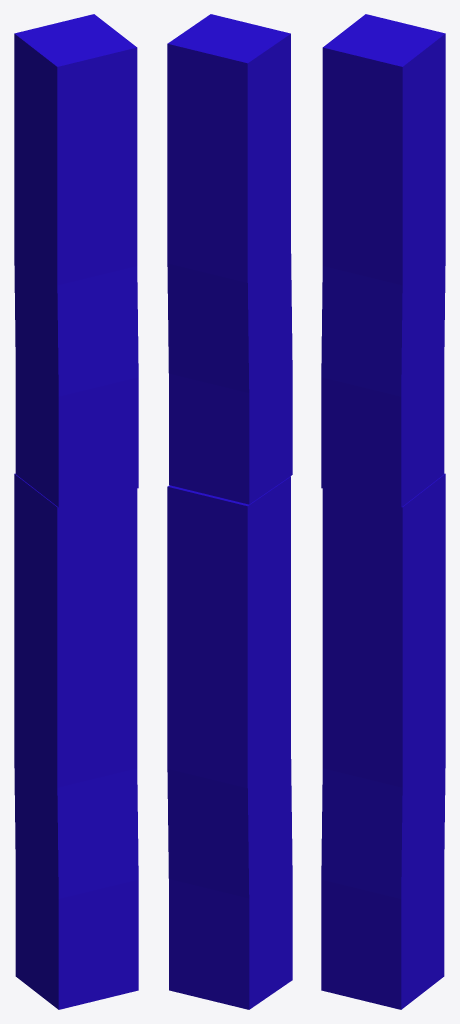
Rendered from columna_tile.fbx.
The picture shows the model from 3 angles, left to right: view 1: azimuth 30°, elevation 25°; view 2: azimuth 150°, elevation 25°; view 3: azimuth 330°, elevation 25°; orthographic projection.
Visible parts, largest first — view 1: Box1366, Box1367; view 2: Box1366, Box1367; view 3: Box1366, Box1367.
Boxes of the visible parts, x1,y1,x2,y2 form: Box1366: [14, 473, 138, 1009]; Box1367: [14, 14, 138, 507]; Box1366: [167, 476, 292, 1009]; Box1367: [167, 14, 292, 504]; Box1366: [321, 473, 445, 1009]; Box1367: [321, 14, 445, 507].
Size of the model in its own units: 3.97 by 44.82 by 3.83.
